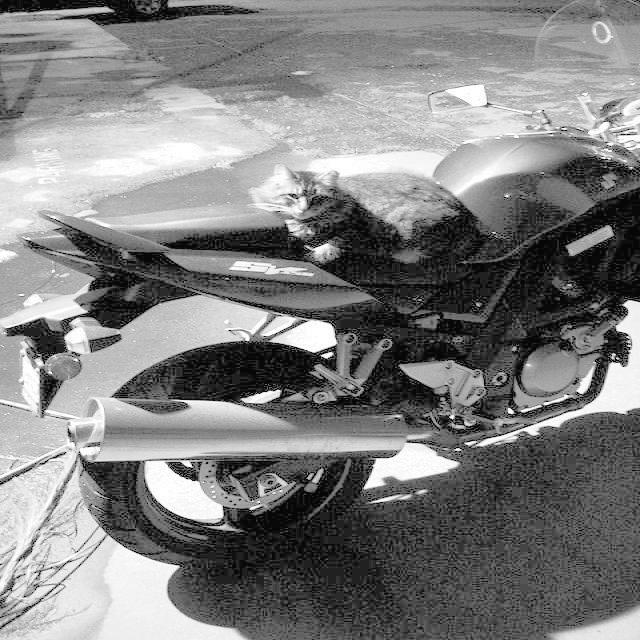Motorcycle: (7, 123, 640, 576)
